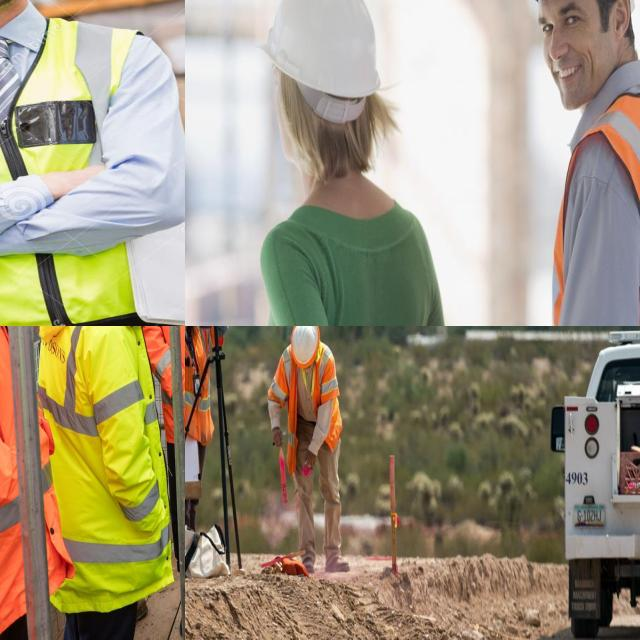No_Ear-Protection: (608, 0, 633, 39)
No_Glasses: (532, 2, 598, 42)
face_nomask: (532, 0, 606, 106)
head_helmet: (261, 0, 386, 101), (290, 326, 321, 366)
person: (243, 0, 461, 326), (0, 0, 185, 326), (30, 326, 167, 640), (517, 0, 640, 326), (273, 326, 351, 574), (141, 326, 185, 635), (185, 326, 220, 554)
vest: (0, 23, 185, 325), (35, 326, 172, 581), (564, 112, 640, 326), (271, 342, 342, 449), (0, 326, 18, 630), (140, 326, 185, 434), (185, 326, 213, 440)
